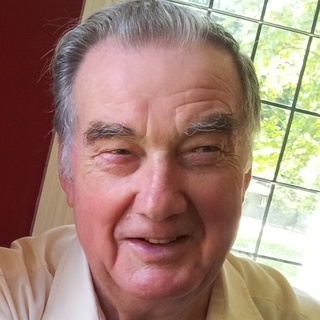eye: (91, 142, 141, 165), (180, 142, 226, 161)
